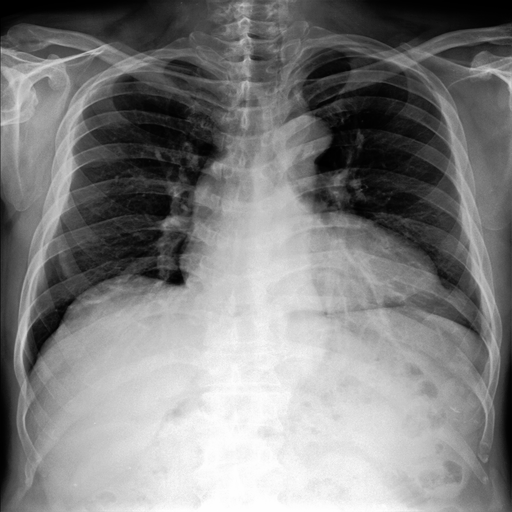Consolidation: (277, 111, 333, 176)
Nodule/Mass: (182, 224, 444, 310)
Other lesion: (57, 276, 168, 323)
Pleural thickening: (57, 276, 168, 323)
